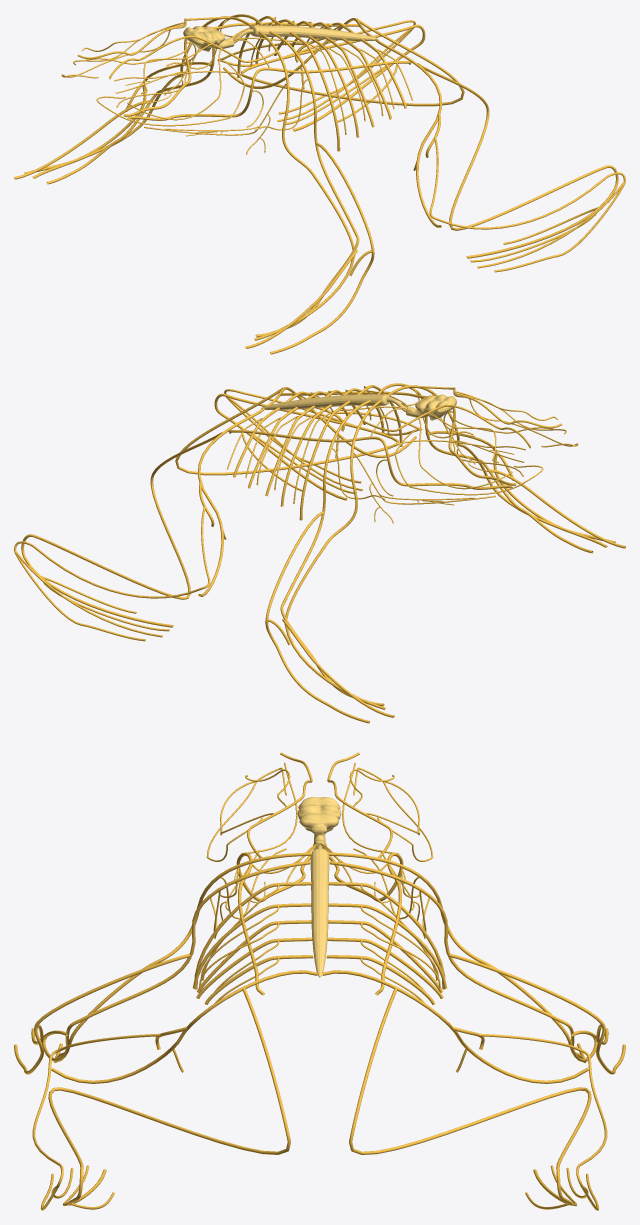
The model's file is nervs.fbx.
The picture shows the model from 3 angles, top to bottom: view 1: azimuth 30°, elevation 25°; view 2: azimuth 150°, elevation 25°; view 3: azimuth 270°, elevation 25°; orthographic projection. The views are drawn at different scales.
Visible parts, largest first — view 1: BezierCurve.004, BezierCurve.003, BezierCurve.012, BezierCurve.005, BezierCurve.032, BezierCurve.006, BezierCurve, Cube.004, BezierCurve.019, BezierCurve.028, Cube.011, BezierCurve.020 (+7 smaller); view 2: BezierCurve.004, BezierCurve.003, BezierCurve.012, BezierCurve.005, BezierCurve.032, BezierCurve.006, BezierCurve, Cube.004, BezierCurve.019, BezierCurve.028, Cube.011, BezierCurve.020 (+7 smaller); view 3: BezierCurve.004, BezierCurve.005, BezierCurve.012, BezierCurve, BezierCurve.003, Cube.004, BezierCurve.006, BezierCurve.032, Cube.011, BezierCurve.016, BezierCurve.015, BezierCurve.009 (+4 smaller).
Boxes of the visible parts, <box> form: BezierCurve.004: <box>241,18,618,258</box>; BezierCurve.003: <box>217,20,625,272</box>; BezierCurve.012: <box>32,16,355,340</box>; BezierCurve.005: <box>46,14,359,337</box>; BezierCurve.032: <box>123,22,411,120</box>; BezierCurve.006: <box>24,62,374,354</box>; BezierCurve: <box>223,18,441,227</box>; Cube.004: <box>249,25,378,40</box>; BezierCurve.019: <box>14,100,357,348</box>; BezierCurve.028: <box>77,16,277,79</box>; Cube.011: <box>183,26,234,51</box>; BezierCurve.020: <box>277,28,623,268</box>; BezierCurve.004: <box>21,387,398,627</box>; BezierCurve.003: <box>14,389,422,641</box>; BezierCurve.012: <box>284,385,607,709</box>; BezierCurve.005: <box>280,383,593,706</box>; BezierCurve.032: <box>228,391,516,489</box>; BezierCurve.006: <box>265,431,615,723</box>; BezierCurve: <box>198,387,416,596</box>; Cube.004: <box>261,394,390,409</box>; BezierCurve.019: <box>282,469,625,717</box>; BezierCurve.028: <box>362,385,562,448</box>; Cube.011: <box>406,394,456,420</box>; BezierCurve.020: <box>16,397,362,637</box>; BezierCurve.004: <box>48,988,591,1205</box>; BezierCurve.005: <box>54,861,585,1063</box>; BezierCurve.012: <box>42,852,597,1061</box>; BezierCurve: <box>51,970,588,1083</box>; BezierCurve.003: <box>32,1033,607,1210</box>; Cube.004: <box>310,848,329,977</box>; BezierCurve.006: <box>14,954,625,1074</box>; BezierCurve.032: <box>236,843,403,995</box>; Cube.011: <box>297,797,341,849</box>; BezierCurve.016: <box>194,882,445,989</box>; BezierCurve.015: <box>193,903,446,988</box>; BezierCurve.009: <box>196,937,443,998</box>.
Bounding box in the file's own units: 739 × 361 × 717.
